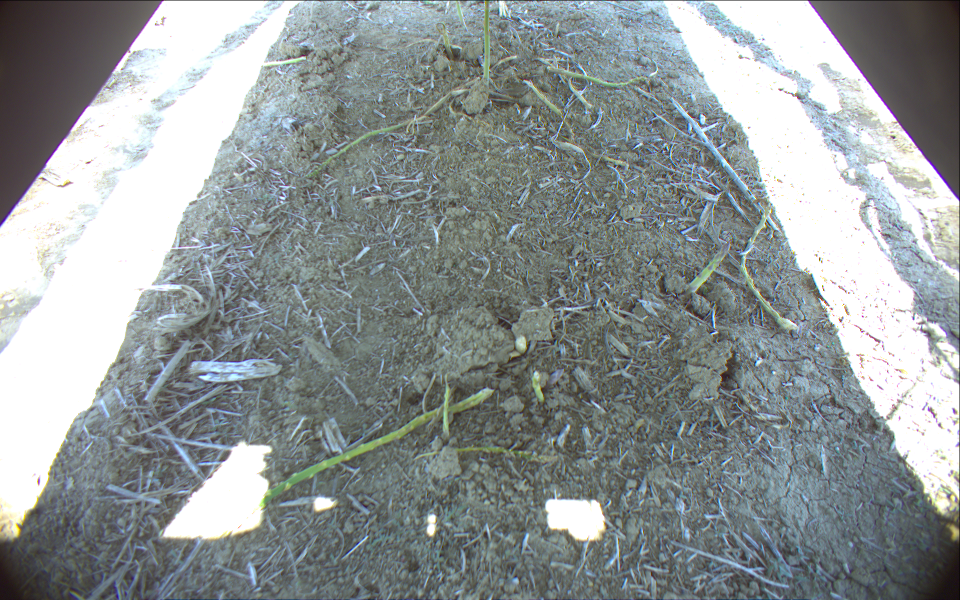aspa: (246, 385, 494, 514), (739, 203, 797, 331), (303, 119, 418, 179), (546, 52, 663, 89), (523, 81, 576, 142), (414, 445, 559, 464), (687, 240, 732, 296), (482, 1, 493, 87), (441, 380, 456, 442), (253, 56, 308, 71), (438, 22, 453, 60), (532, 370, 544, 408), (455, 1, 467, 29), (496, 1, 511, 21)
